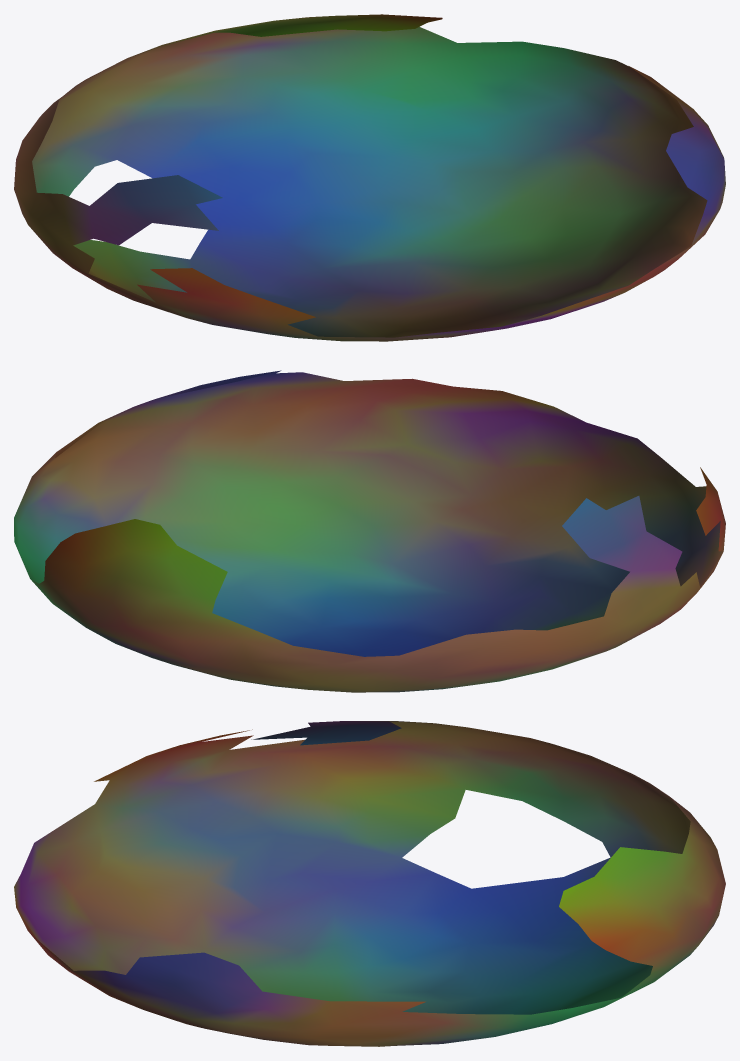
The model's file is space-galaxies-galaxy_v4.glb.
The picture shows the model from 3 angles, top to bottom: view 1: azimuth 30°, elevation 25°; view 2: azimuth 150°, elevation 25°; view 3: azimuth 270°, elevation 25°; orthographic projection.
Parts seen in each view (by area): view 1: Galaxy_v4; view 2: Galaxy_v4; view 3: Galaxy_v4.
Boxes of the visible parts, <box> form: Galaxy_v4: <box>14,14,725,341</box>; Galaxy_v4: <box>14,370,725,692</box>; Galaxy_v4: <box>14,721,725,1046</box>.
Bounding box in the file's own units: 0.5 × 0.0877 × 0.4995.
